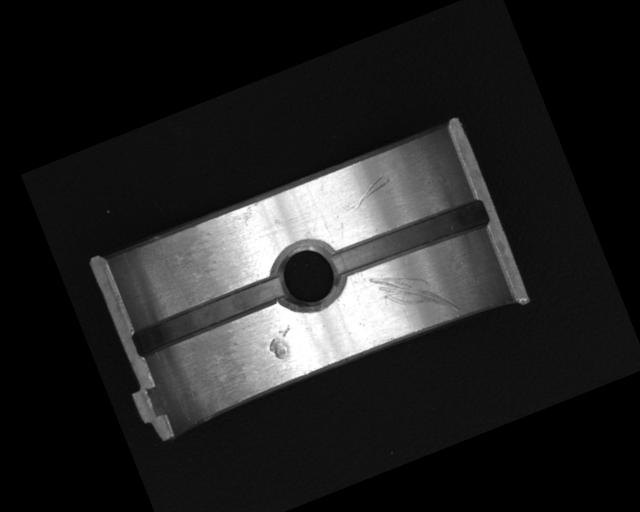bruise: (263, 324, 299, 362)
gap: (328, 194, 490, 283), (130, 272, 288, 357)
hole: (265, 234, 348, 318)
nick: (367, 252, 459, 338), (341, 173, 396, 214)
